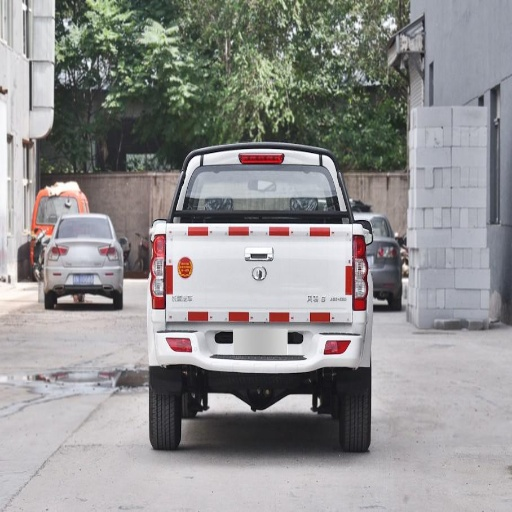back_bumper: (149, 311, 367, 375)
trunk: (160, 215, 380, 339)
